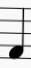F: (8, 4, 25, 61)
